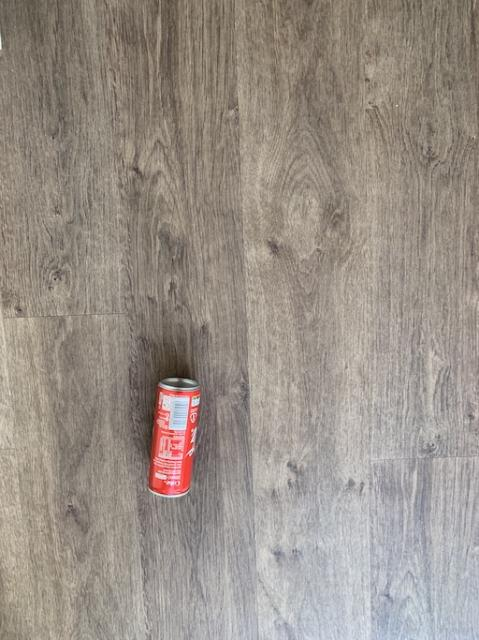metal: (148, 376, 199, 496)
